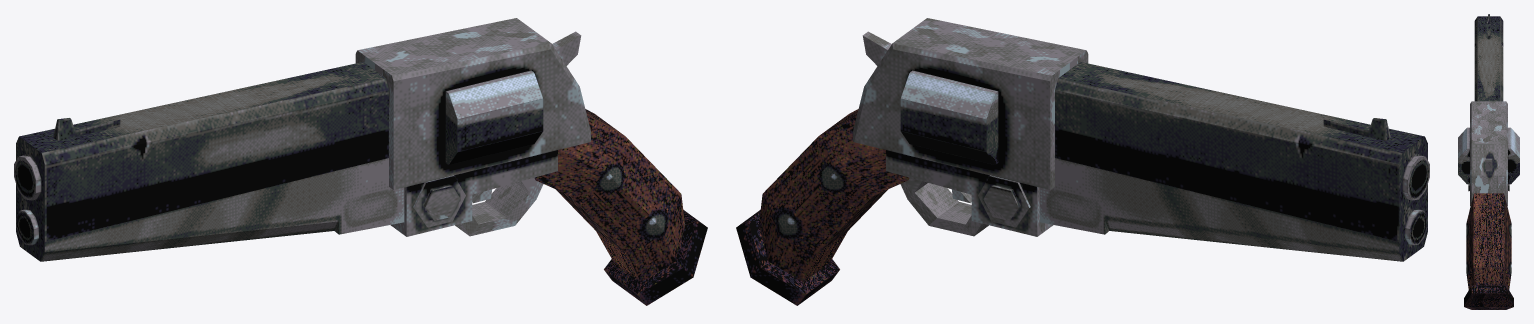
File: GUN.fbx
3 views of the same model, side by side, from view 1: azimuth 30°, elevation 25°; view 2: azimuth 150°, elevation 25°; view 3: azimuth 270°, elevation 25° (orthographic). The views are drawn at different scales.
Parts seen in each view (by area): view 1: Arma; view 2: Arma; view 3: Arma.
Boxes of the visible parts, box(x1,y1,x2,y2) form: Arma: box(14, 18, 707, 305); Arma: box(736, 18, 1429, 305); Arma: box(1458, 14, 1519, 309).
Bounding box in the file's own units: 506 × 228 × 81.23.
